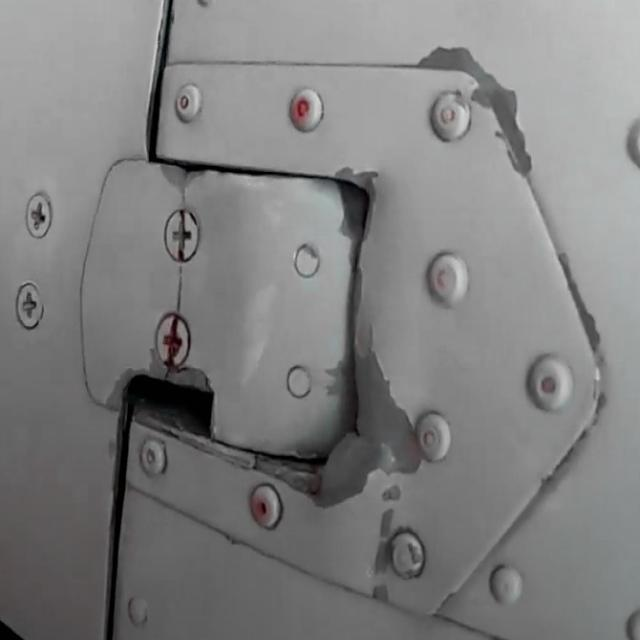crack: (171, 266, 190, 311)
